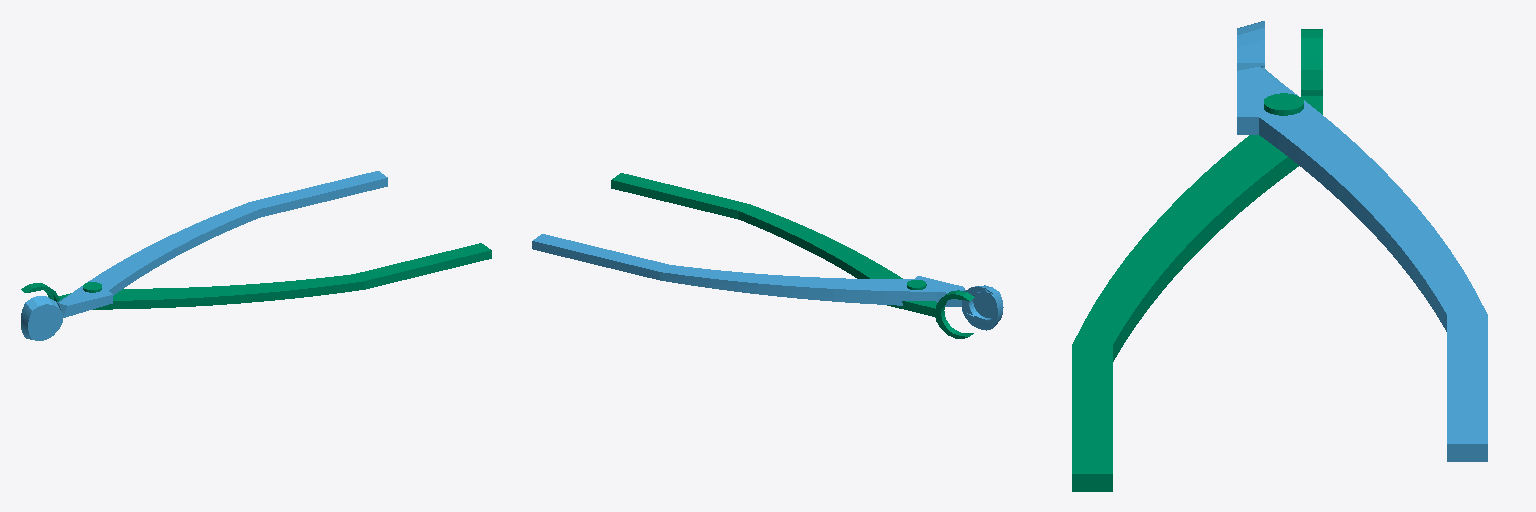
robot.urdf — partnet_e0043488-daa8-42ed-9e8c-a3bfe0f14373:
<?xml version="1.0" ?>
<robot name="partnet_e0043488-daa8-42ed-9e8c-a3bfe0f14373">
	<link name="base"/>
	<link name="link_0">
		<visual name="leg-1">
			<origin xyz="0 0 -0.50539715886116"/>
			<geometry>
				<mesh filename="textured_objs/original-3.obj"/>
			</geometry>
		</visual>
		<visual name="leg-1">
			<origin xyz="0 0 -0.50539715886116"/>
			<geometry>
				<mesh filename="textured_objs/original-5.obj"/>
			</geometry>
		</visual>
		<visual name="leg-1">
			<origin xyz="0 0 -0.50539715886116"/>
			<geometry>
				<mesh filename="textured_objs/original-6.obj"/>
			</geometry>
		</visual>
		<visual name="leg-1">
			<origin xyz="0 0 -0.50539715886116"/>
			<geometry>
				<mesh filename="textured_objs/original-2.obj"/>
			</geometry>
		</visual>
		<visual name="leg-1">
			<origin xyz="0 0 -0.50539715886116"/>
			<geometry>
				<mesh filename="textured_objs/original-7.obj"/>
			</geometry>
		</visual>
		<collision>
			<origin xyz="0 0 -0.50539715886116"/>
			<geometry>
				<mesh filename="textured_objs/original-3.obj"/>
			</geometry>
		</collision>
		<collision>
			<origin xyz="0 0 -0.50539715886116"/>
			<geometry>
				<mesh filename="textured_objs/original-5.obj"/>
			</geometry>
		</collision>
		<collision>
			<origin xyz="0 0 -0.50539715886116"/>
			<geometry>
				<mesh filename="textured_objs/original-6.obj"/>
			</geometry>
		</collision>
		<collision>
			<origin xyz="0 0 -0.50539715886116"/>
			<geometry>
				<mesh filename="textured_objs/original-2.obj"/>
			</geometry>
		</collision>
		<collision>
			<origin xyz="0 0 -0.50539715886116"/>
			<geometry>
				<mesh filename="textured_objs/original-7.obj"/>
			</geometry>
		</collision>
	</link>
	<joint name="joint_0" type="revolute">
		<origin xyz="0 0 0.50539715886116"/>
		<axis xyz="0 1 0"/>
		<child link="link_0"/>
		<parent link="link_1"/>
		<limit lower="0.0" upper="1.7453292519943295"/>
	</joint>
	<link name="link_1">
		<visual name="base_body-2">
			<origin xyz="0 0 0"/>
			<geometry>
				<mesh filename="textured_objs/original-4.obj"/>
			</geometry>
		</visual>
		<visual name="base_body-2">
			<origin xyz="0 0 0"/>
			<geometry>
				<mesh filename="textured_objs/original-9.obj"/>
			</geometry>
		</visual>
		<visual name="base_body-2">
			<origin xyz="0 0 0"/>
			<geometry>
				<mesh filename="textured_objs/original-10.obj"/>
			</geometry>
		</visual>
		<collision>
			<origin xyz="0 0 0"/>
			<geometry>
				<mesh filename="textured_objs/original-4.obj"/>
			</geometry>
		</collision>
		<collision>
			<origin xyz="0 0 0"/>
			<geometry>
				<mesh filename="textured_objs/original-9.obj"/>
			</geometry>
		</collision>
		<collision>
			<origin xyz="0 0 0"/>
			<geometry>
				<mesh filename="textured_objs/original-10.obj"/>
			</geometry>
		</collision>
	</link>
	<joint name="joint_1" type="fixed">
		<origin rpy="1.570796326794897 0 -1.570796326794897" xyz="0 0 0"/>
		<child link="link_1"/>
		<parent link="base"/>
	</joint>
</robot>

--- What the picture shows (computed from the rendered views, not written in the file) ---
The picture shows the robot from 3 angles, left to right: view 1: azimuth 30°, elevation 25°; view 2: azimuth 150°, elevation 25°; view 3: azimuth 270°, elevation 25°; orthographic projection.
Robot: partnet_e0043488-daa8-42ed-9e8c-a3bfe0f14373 — 3 links, 2 joints (1 revolute, 1 fixed); root link base; default pose: every joint at zero.
Links seen in each view (by area): view 1: link_0, link_1; view 2: link_0, link_1; view 3: link_0, link_1.
Boxes of the visible links, <box> form: link_0: <box>21,171,387,340</box>; link_1: <box>21,243,491,309</box>; link_0: <box>532,234,1003,330</box>; link_1: <box>611,173,974,338</box>; link_0: <box>1237,21,1487,461</box>; link_1: <box>1072,29,1322,491</box>.
Size in the robot's own frame: 1.77 by 0.7306 by 0.1774 metres.
8 mesh visuals loaded from 8 distinct referenced files (8 OBJ).